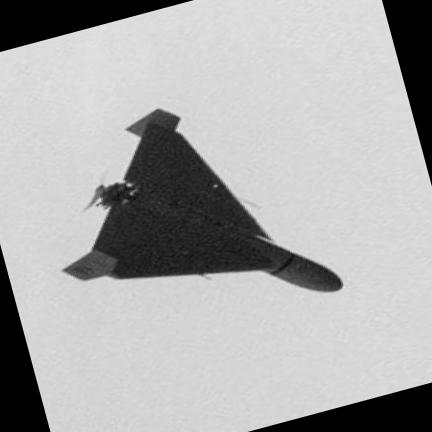Shahed: (62, 108, 343, 292)
